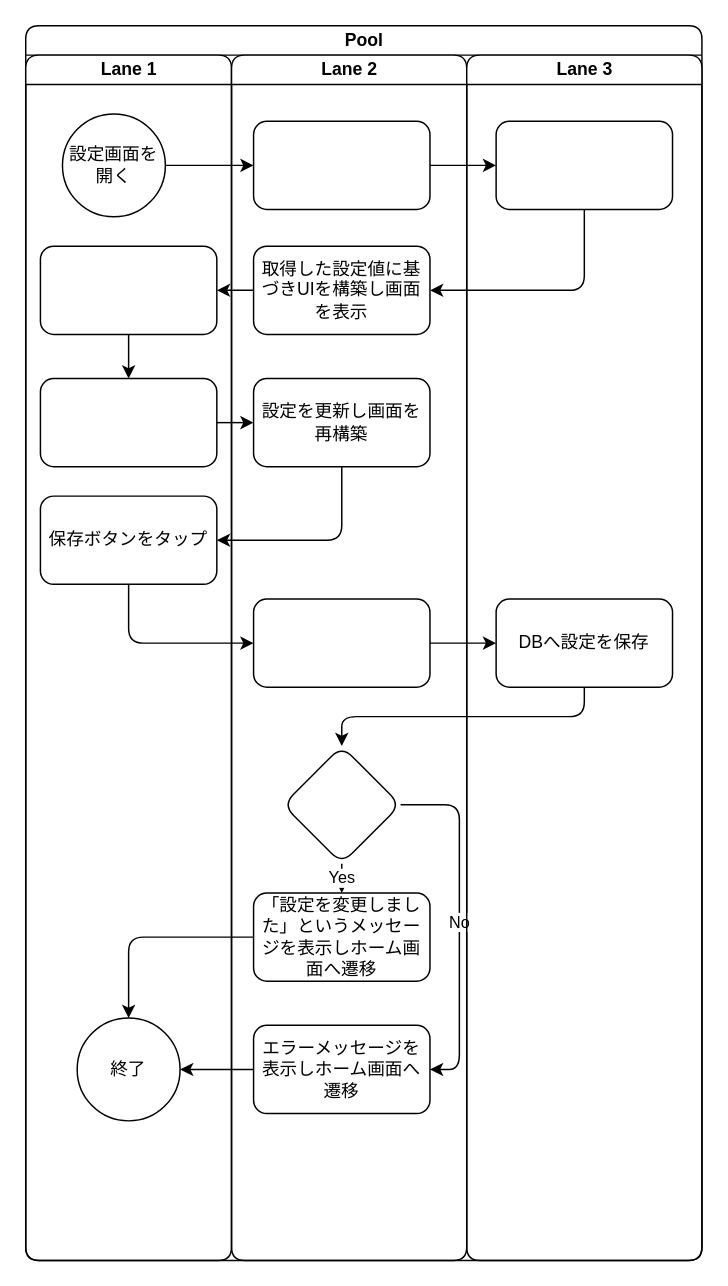
Image size: 728x1286. Some labels were removed from this diagram. Each missing label, with the centre of its shape:
"DBに現在の設定を問い合わせる" goes at point (341, 164).
"DBへ設定を保存するよう要求" goes at point (341, 642).
"任意の設定を変更" goes at point (128, 422).
"処理が正常に行われたか？" goes at point (341, 804).
"現在の設定を取得し返す" goes at point (584, 164).
"画面を確認" goes at point (128, 289).
